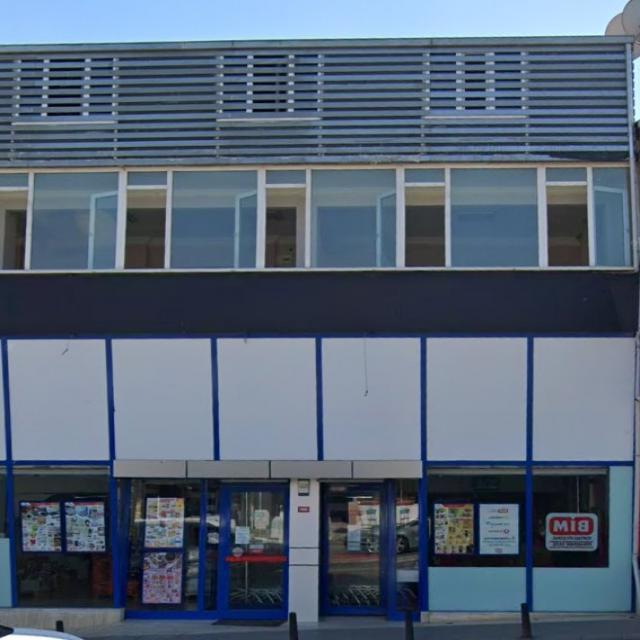Building: (0, 37, 639, 616)
